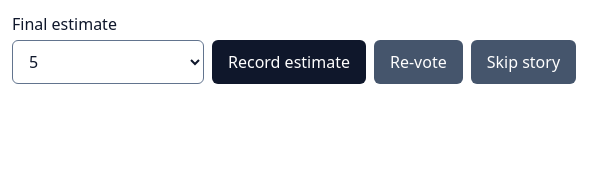
Test: FacilitatorControls › shows the fixed message for INVALID_CARD and re-enables the controls
Click the button "Skip story" at (523, 62), box [471,40,576,84]
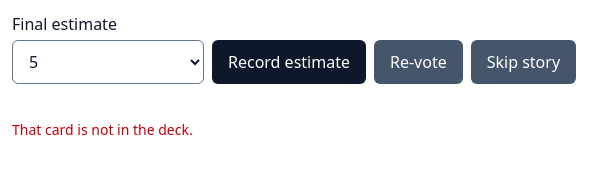
expect the message "That card is not in the deck." is shown: met, box [12,120,193,139]
